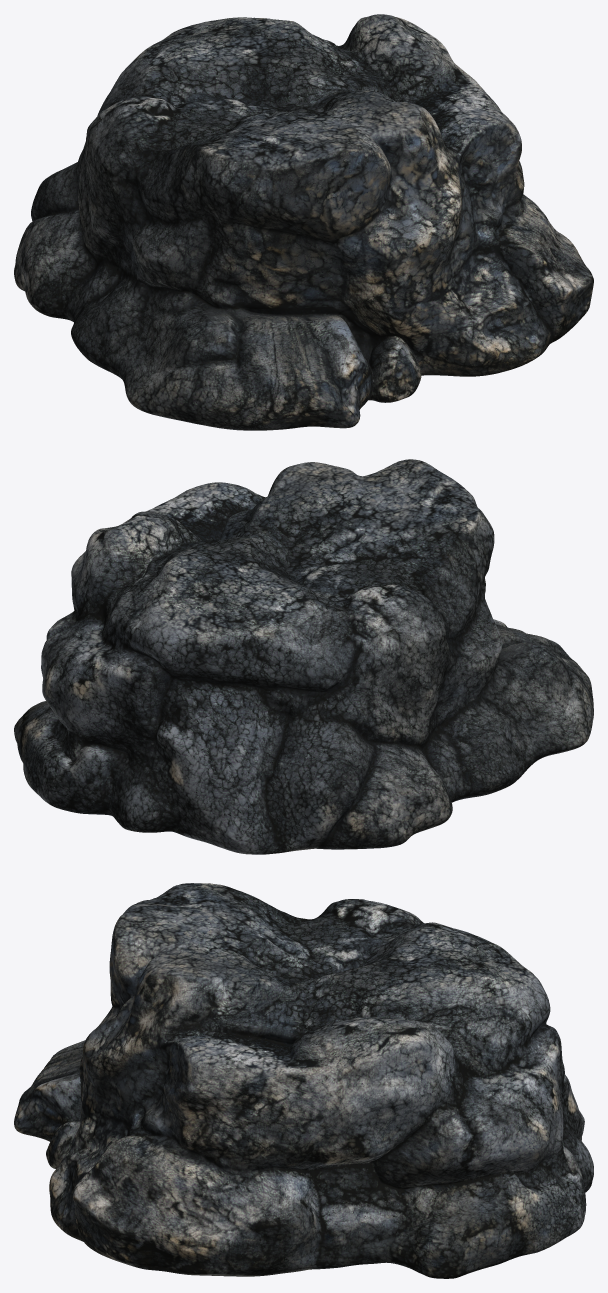
File: avatar2.glb
The picture shows the model from 3 angles, top to bottom: view 1: azimuth 30°, elevation 25°; view 2: azimuth 150°, elevation 25°; view 3: azimuth 270°, elevation 25°; orthographic projection. The views are drawn at different scales.
Size of the model in its own units: 1.77 by 0.8498 by 1.9.
1 material, 1 textured.
